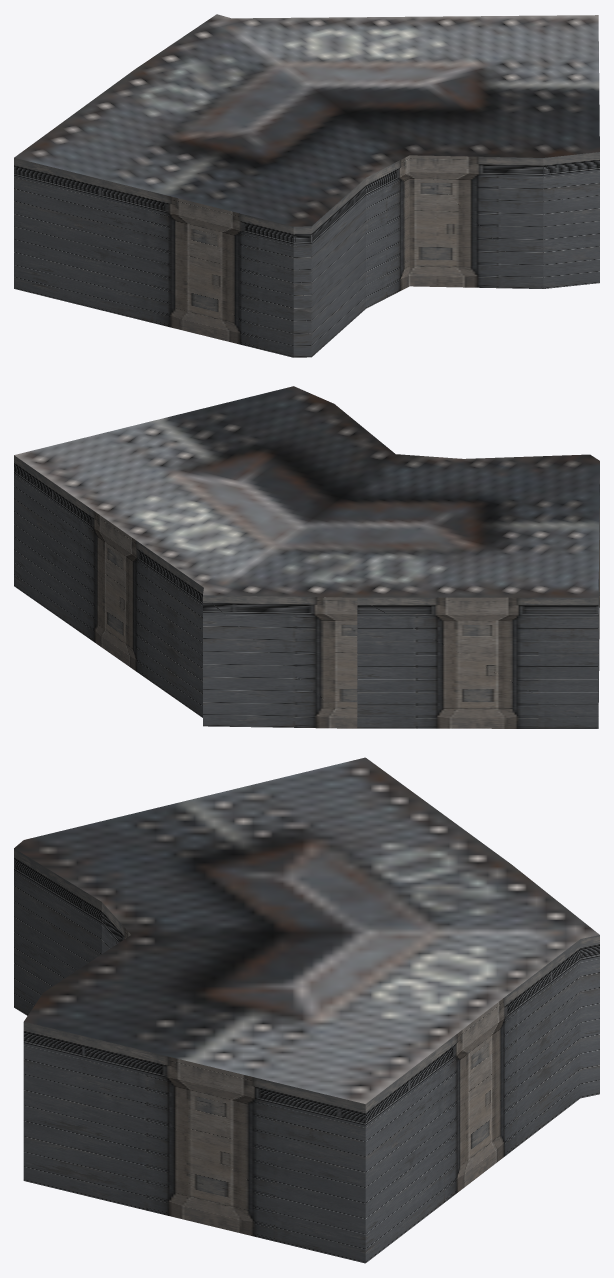
Rendered from hangar_hard_20.glb.
The picture shows the model from 3 angles, top to bottom: view 1: azimuth 30°, elevation 25°; view 2: azimuth 150°, elevation 25°; view 3: azimuth 270°, elevation 25°; orthographic projection. The views are drawn at different scales.
Parts seen in each view (by area): view 1: buildings/saxarba/hangar_hard/hangar_hard_20; view 2: buildings/saxarba/hangar_hard/hangar_hard_20; view 3: buildings/saxarba/hangar_hard/hangar_hard_20.
Part boxes in pixels (box(x1,y1,x2,y2)): buildings/saxarba/hangar_hard/hangar_hard_20: box(14, 14, 599, 357); buildings/saxarba/hangar_hard/hangar_hard_20: box(14, 386, 599, 728); buildings/saxarba/hangar_hard/hangar_hard_20: box(14, 757, 599, 1263).
Bounding box in the file's own units: 84 × 18 × 60.
